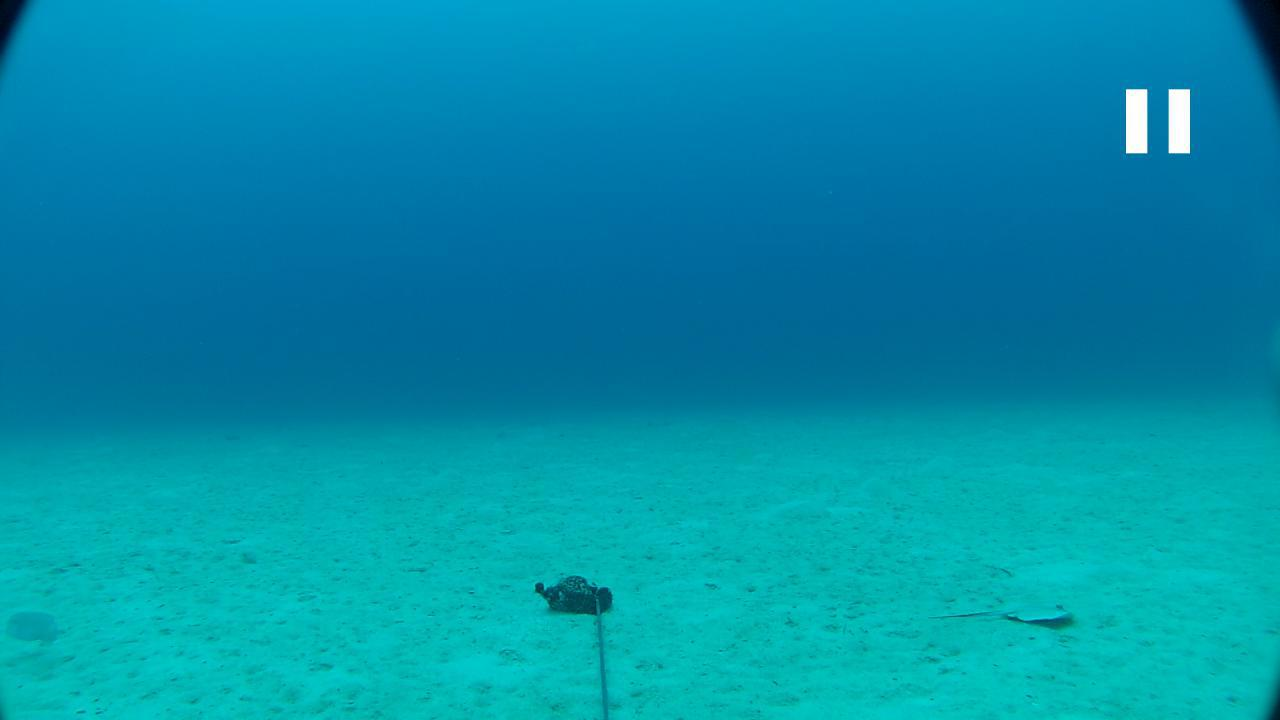dasyatis: (925, 601, 1076, 623)
raor: (5, 606, 62, 646)
